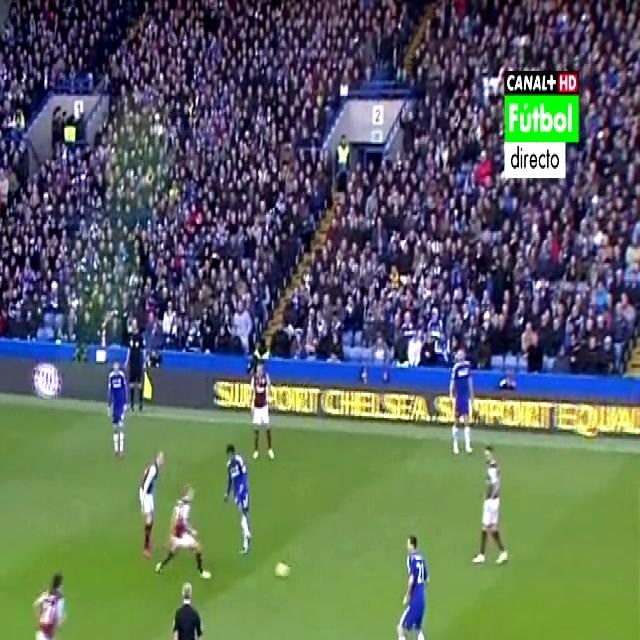ball: (271, 543, 291, 587)
referee: (121, 304, 156, 417), (162, 572, 212, 640)
soccer-player: (466, 434, 512, 580), (158, 482, 214, 593), (388, 519, 438, 640), (213, 442, 258, 561), (238, 358, 283, 468), (13, 562, 71, 640), (132, 433, 167, 555), (441, 332, 475, 450), (104, 358, 132, 460)
